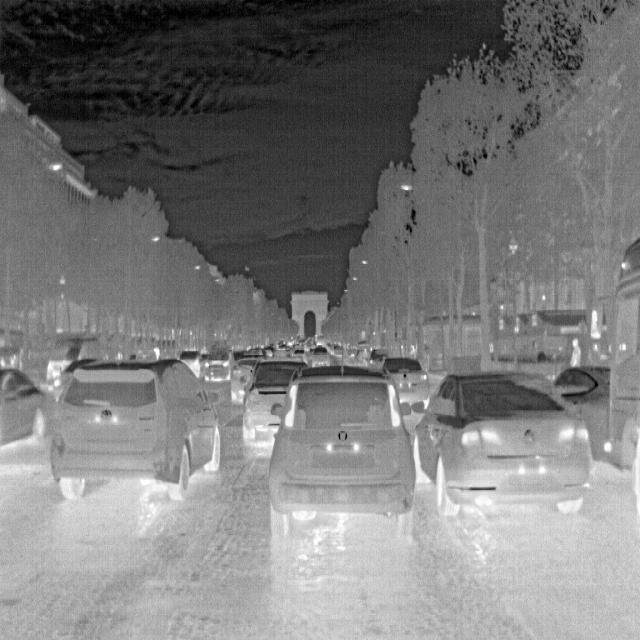Vehicle: (411, 365, 595, 524), (263, 354, 415, 541), (44, 352, 221, 508)
